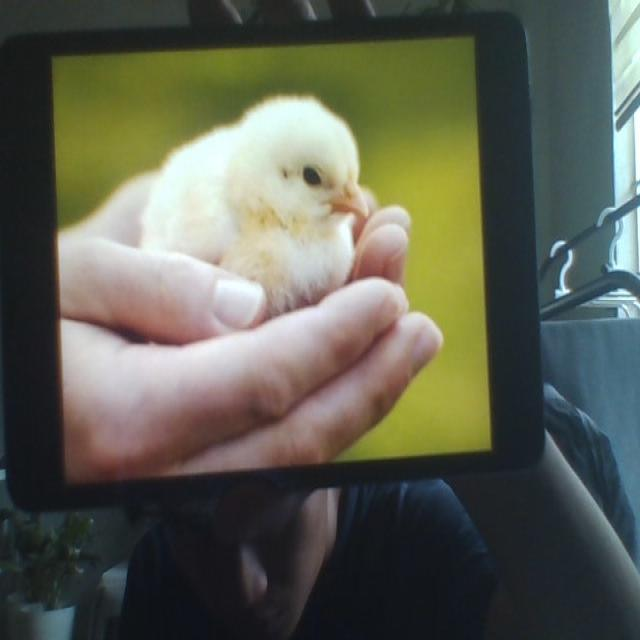Healthy: (139, 92, 368, 303)
